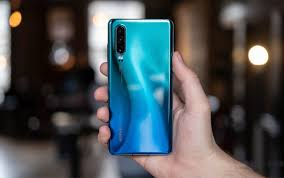huawei: (107, 17, 172, 155)
